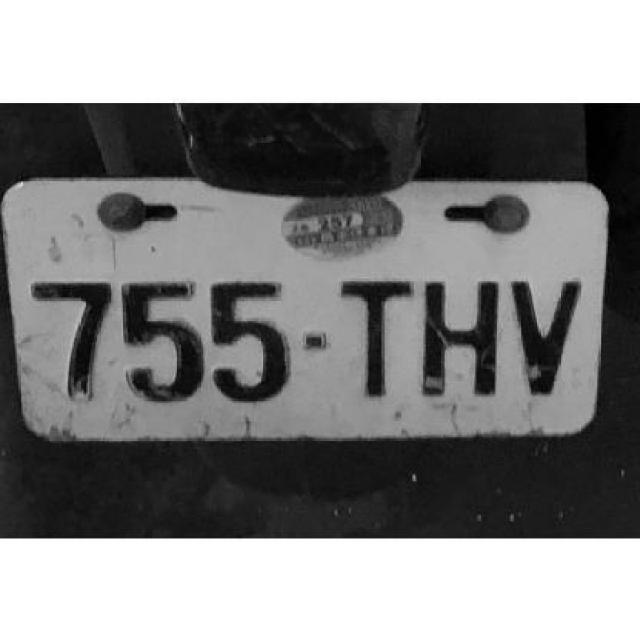-: (302, 326, 328, 351)
5: (119, 270, 203, 402), (205, 274, 292, 401)
7: (29, 272, 117, 400)
H: (423, 272, 500, 397)
T: (337, 272, 415, 397)
V: (512, 271, 583, 397)
